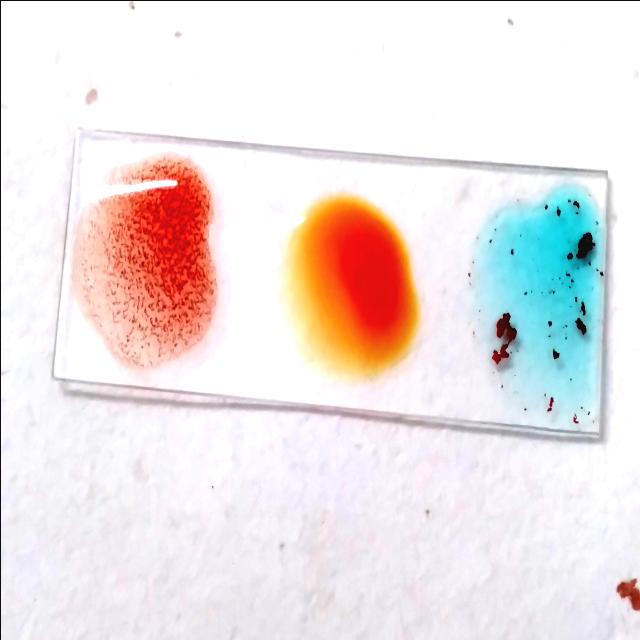A: (479, 197, 602, 410)
D: (78, 158, 210, 368)
